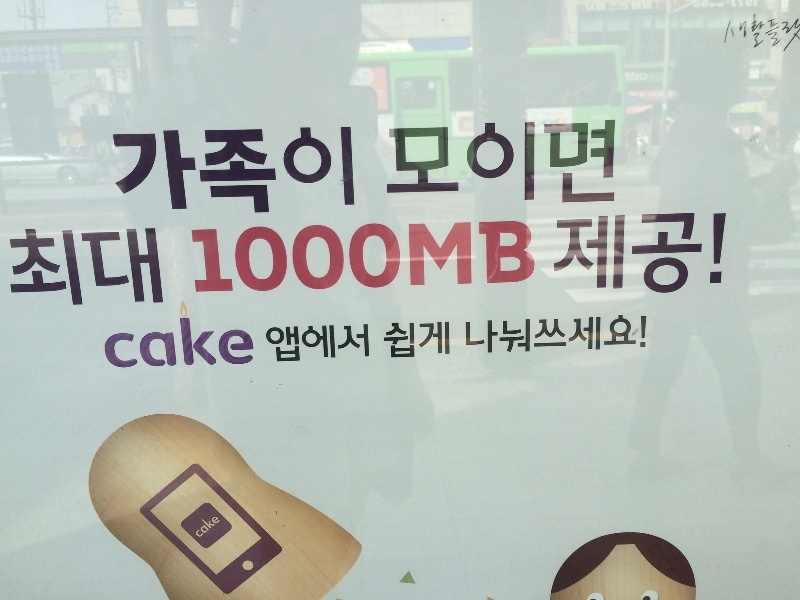text: (113, 124, 128, 218), (129, 124, 144, 218), (145, 124, 160, 218), (161, 124, 176, 218), (177, 124, 192, 218), (193, 124, 208, 218), (209, 124, 224, 218), (225, 124, 240, 218), (241, 124, 256, 218), (257, 124, 272, 218), (273, 124, 288, 218), (289, 124, 304, 218), (305, 124, 320, 218), (321, 124, 336, 218), (337, 124, 352, 218), (401, 117, 416, 207), (417, 117, 432, 207), (433, 117, 448, 207), (449, 117, 464, 207), (465, 117, 480, 207), (481, 117, 496, 207), (497, 117, 512, 207), (513, 117, 528, 207), (529, 117, 544, 207), (545, 117, 560, 207), (561, 117, 576, 207), (577, 117, 592, 207), (593, 117, 608, 207), (561, 212, 576, 296), (577, 212, 592, 296), (593, 212, 608, 296), (609, 212, 624, 296), (625, 212, 640, 296), (641, 212, 656, 296), (657, 212, 672, 296), (673, 212, 688, 296), (689, 212, 704, 296), (705, 212, 720, 296), (17, 225, 32, 306), (33, 225, 48, 306), (49, 225, 64, 306), (65, 225, 80, 306), (81, 225, 96, 306), (97, 225, 112, 306), (113, 225, 128, 306), (129, 225, 144, 306), (145, 225, 160, 306), (193, 220, 208, 295), (209, 220, 224, 295), (225, 220, 240, 295), (241, 220, 256, 295), (257, 220, 272, 295), (273, 220, 288, 295), (289, 220, 304, 295), (305, 220, 320, 295), (321, 220, 336, 295), (337, 220, 352, 295), (353, 220, 368, 295), (369, 220, 384, 295), (385, 220, 400, 295), (401, 220, 416, 295), (417, 220, 432, 295), (433, 220, 448, 295), (449, 220, 464, 295), (465, 220, 480, 295), (481, 220, 496, 295), (497, 220, 512, 295), (513, 220, 528, 295), (388, 117, 400, 207), (113, 314, 128, 372), (129, 314, 144, 372), (145, 314, 160, 372), (161, 314, 176, 372), (177, 314, 192, 372), (193, 314, 208, 372), (209, 314, 224, 372), (225, 314, 240, 372), (241, 314, 254, 372), (609, 117, 617, 207), (8, 225, 16, 306), (737, 13, 752, 54), (753, 13, 768, 54), (273, 324, 288, 364), (289, 324, 304, 364), (305, 324, 320, 364), (321, 324, 336, 364), (337, 324, 352, 364), (353, 324, 368, 364), (465, 315, 480, 354), (481, 315, 496, 354), (497, 315, 512, 354), (513, 315, 528, 354), (529, 315, 544, 354), (545, 315, 560, 354), (561, 315, 576, 354), (577, 315, 592, 354), (593, 315, 608, 354), (609, 315, 624, 354), (625, 315, 640, 354), (769, 13, 783, 54), (385, 322, 400, 360), (401, 322, 416, 360), (417, 322, 432, 360), (433, 322, 448, 360), (529, 220, 536, 295), (785, 18, 800, 53), (721, 212, 727, 296), (104, 314, 112, 372), (193, 510, 208, 539), (353, 124, 357, 218), (727, 13, 736, 54), (209, 510, 221, 539), (556, 212, 560, 296), (161, 225, 165, 306), (641, 315, 648, 354), (266, 324, 272, 364), (189, 220, 192, 295), (781, 18, 784, 53), (111, 124, 112, 218), (369, 324, 370, 364), (449, 322, 450, 360)
